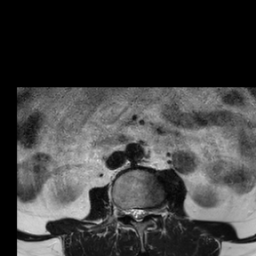CCS_stenosis: (136, 201, 141, 227)
LFS_normal: (148, 202, 155, 222)
LLS_normal: (142, 202, 147, 223)
RFS_normal: (123, 201, 130, 220)
RLS_normal: (129, 202, 136, 221)
